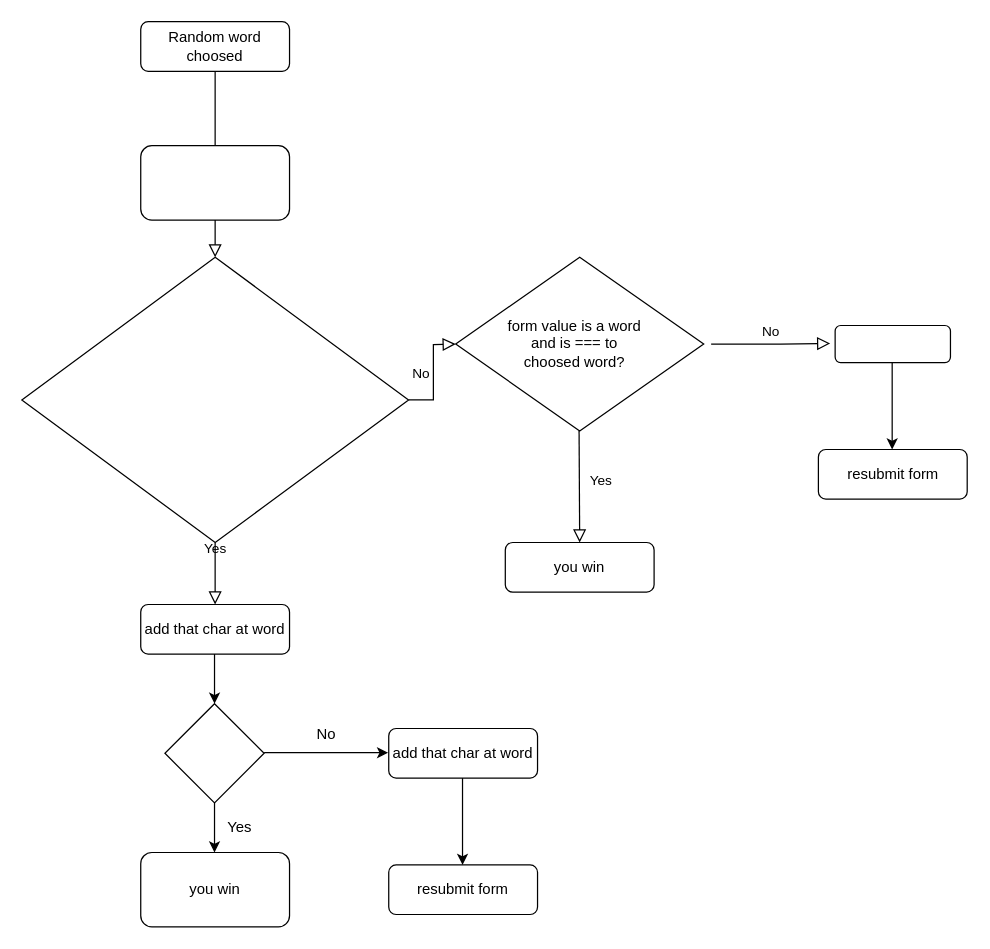
This 990x949 diagram has some shape labels left out. Each missing label, with the centre of its shape:
Form submit: (215,182)
Form value is single char present in a choosed word?: (215,399)
lose a life: (892,343)
that char complete the word?: (214,752)
